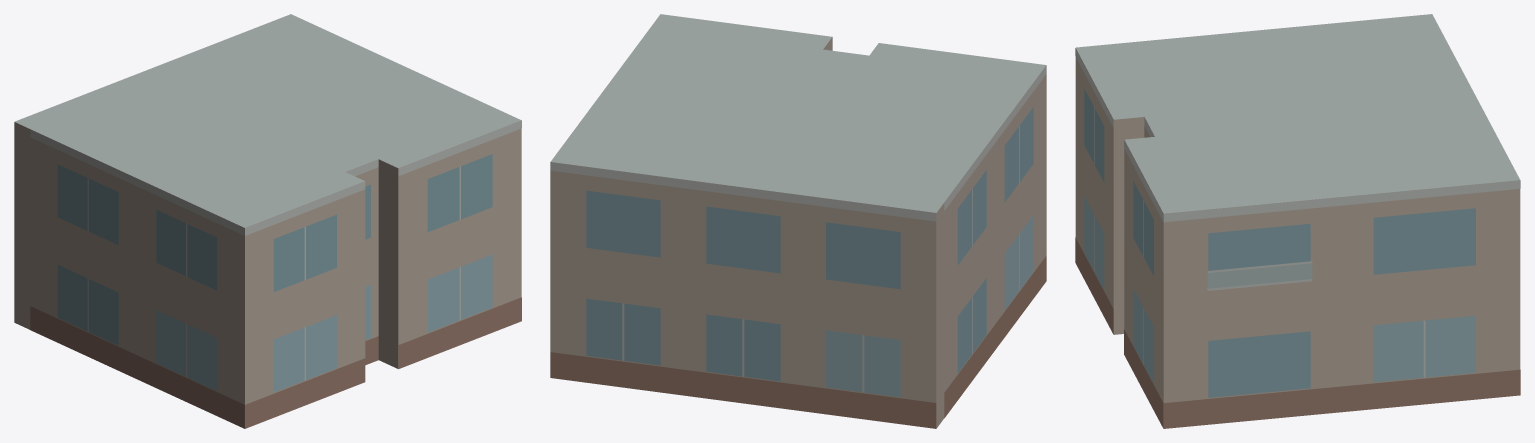
Rendered from survey-upis-32655790.glb.
3 renders of one model, left to right at view 1: azimuth 30°, elevation 25°; view 2: azimuth 150°, elevation 25°; view 3: azimuth 270°, elevation 25°, orthographic. The views are drawn at different scales.
Parts seen in each view (by area): view 1: survey-upis-32655790.tmp; view 2: survey-upis-32655790.tmp; view 3: survey-upis-32655790.tmp.
Boxes of the visible parts, bbox=[...] form: survey-upis-32655790.tmp: bbox=[14, 14, 521, 428]; survey-upis-32655790.tmp: bbox=[550, 14, 1046, 428]; survey-upis-32655790.tmp: bbox=[1075, 14, 1520, 428].
Bounding box in the file's own units: 12.15 × 6.1 × 11.45.
